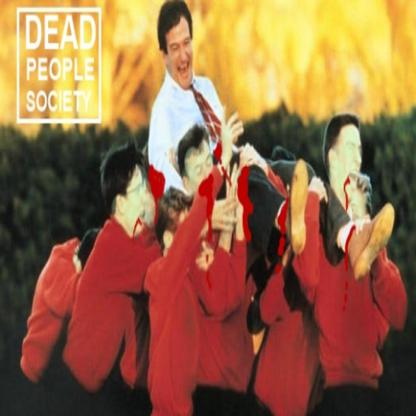face: (169, 19, 196, 85), (189, 143, 214, 210), (338, 128, 363, 188), (127, 162, 148, 231)
